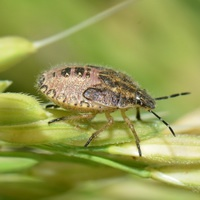insect: (38, 65, 175, 155)
